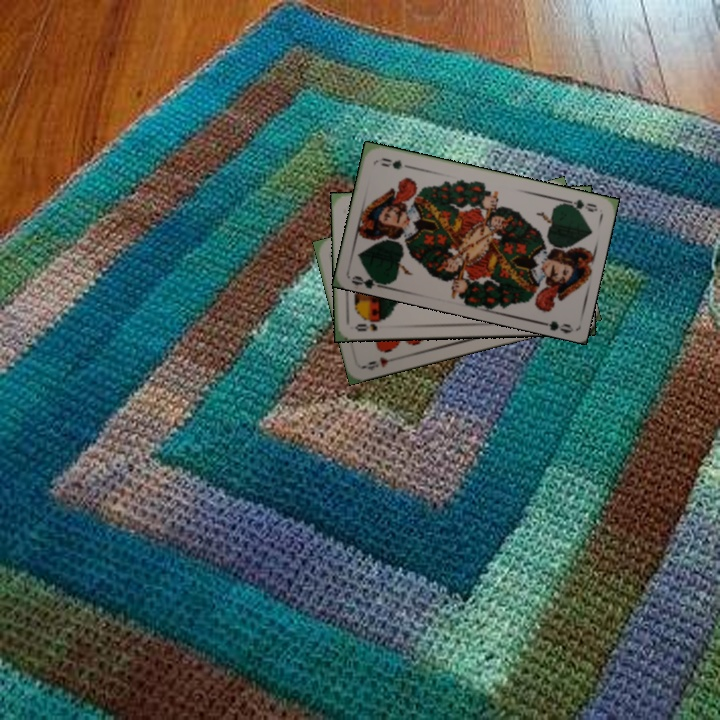GO: (348, 269, 390, 291), (559, 195, 600, 215)
H9: (360, 353, 400, 373)
SO: (351, 316, 388, 334)
